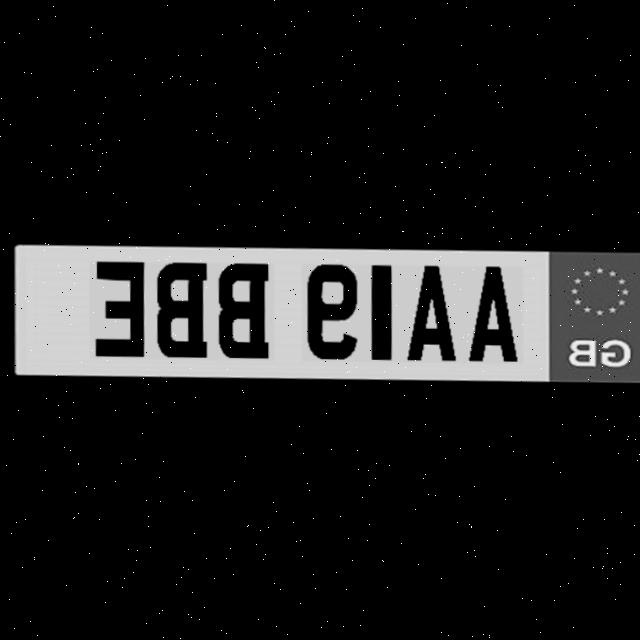license-plates: (12, 242, 640, 382)
